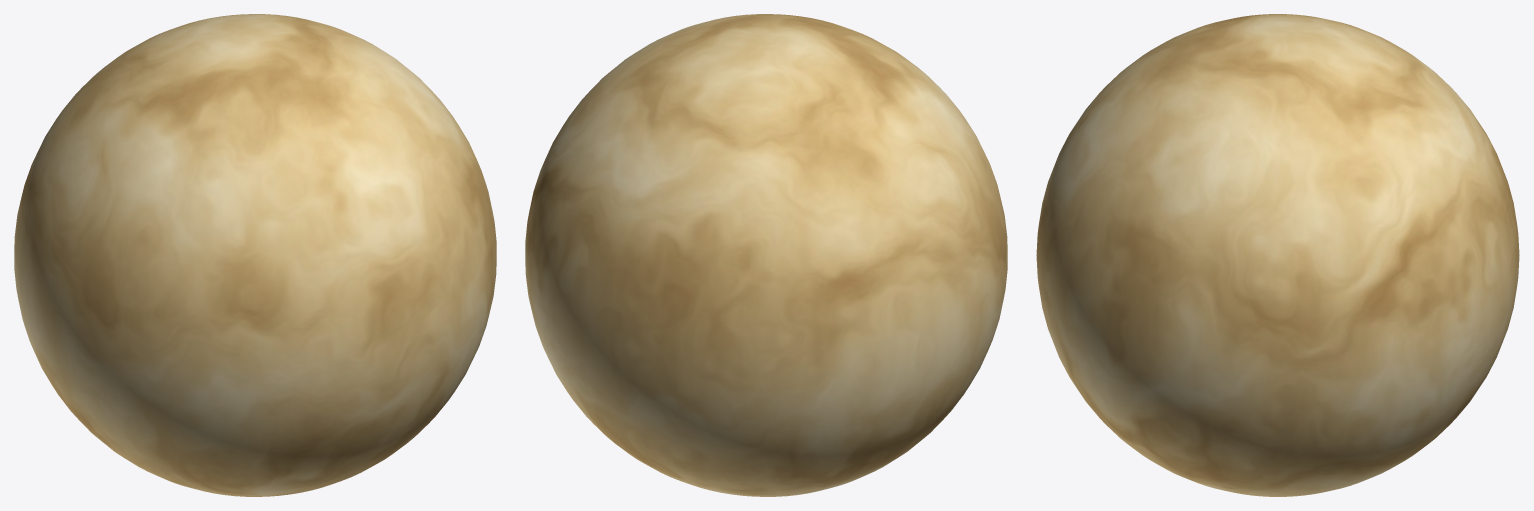
File: venus.glb
3 renders of one model, left to right at view 1: azimuth 30°, elevation 25°; view 2: azimuth 150°, elevation 25°; view 3: azimuth 270°, elevation 25°, orthographic.
Parts seen in each view (by area): view 1: venus; view 2: venus; view 3: venus.
Boxes of the visible parts, left/top/right/bottom form: venus: left=14, top=14, right=496, bottom=496; venus: left=525, top=14, right=1007, bottom=496; venus: left=1036, top=14, right=1519, bottom=496.
Bounding box in the file's own units: 2 × 2 × 2.
1 material, 1 textured.
